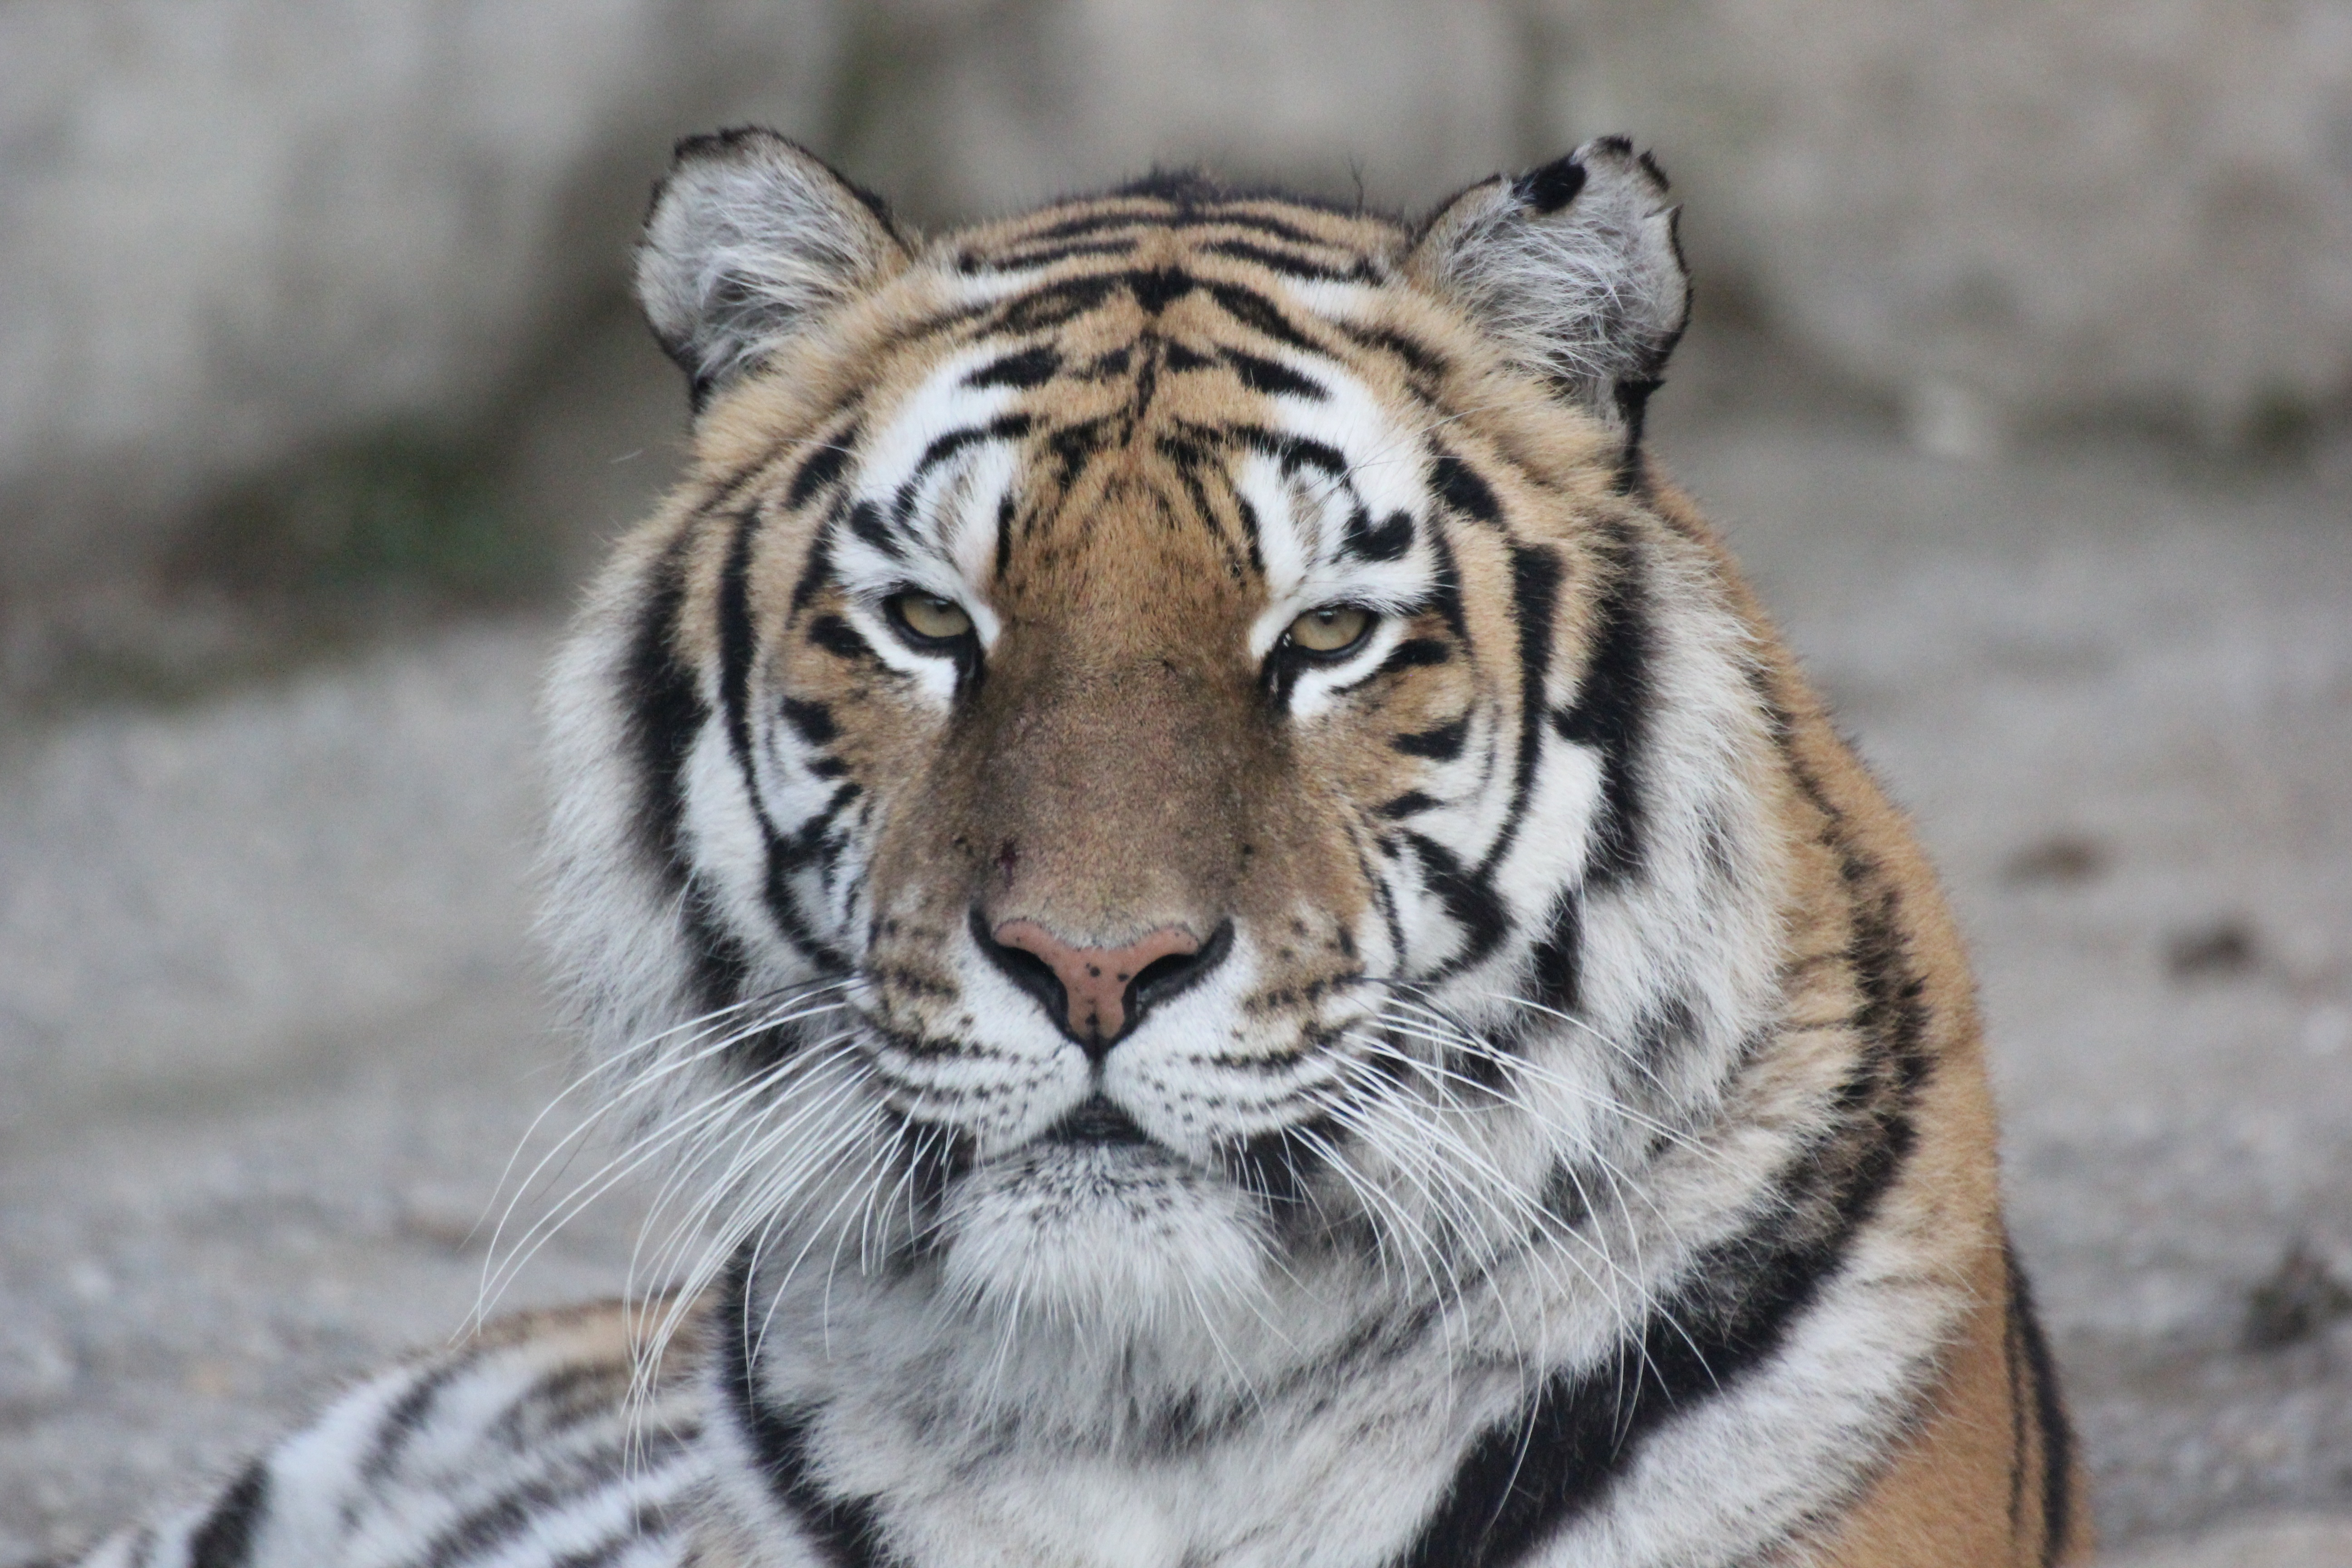tiger: (443, 93, 2070, 1515)
